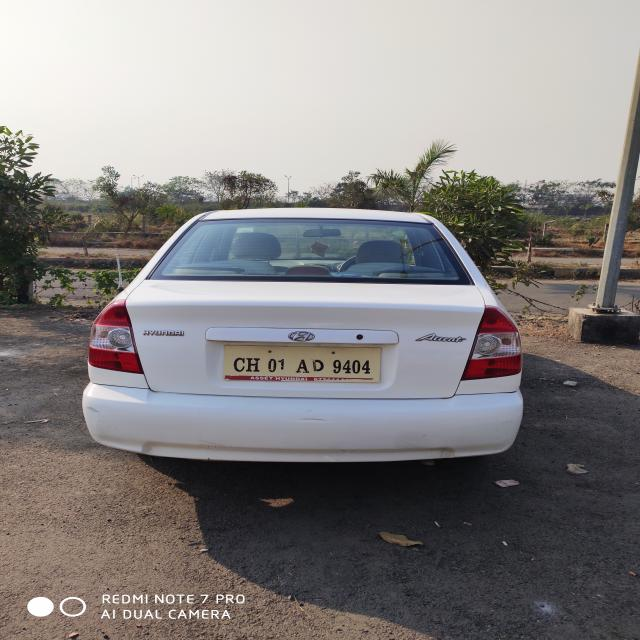Number-Plate: (227, 348, 380, 383)
